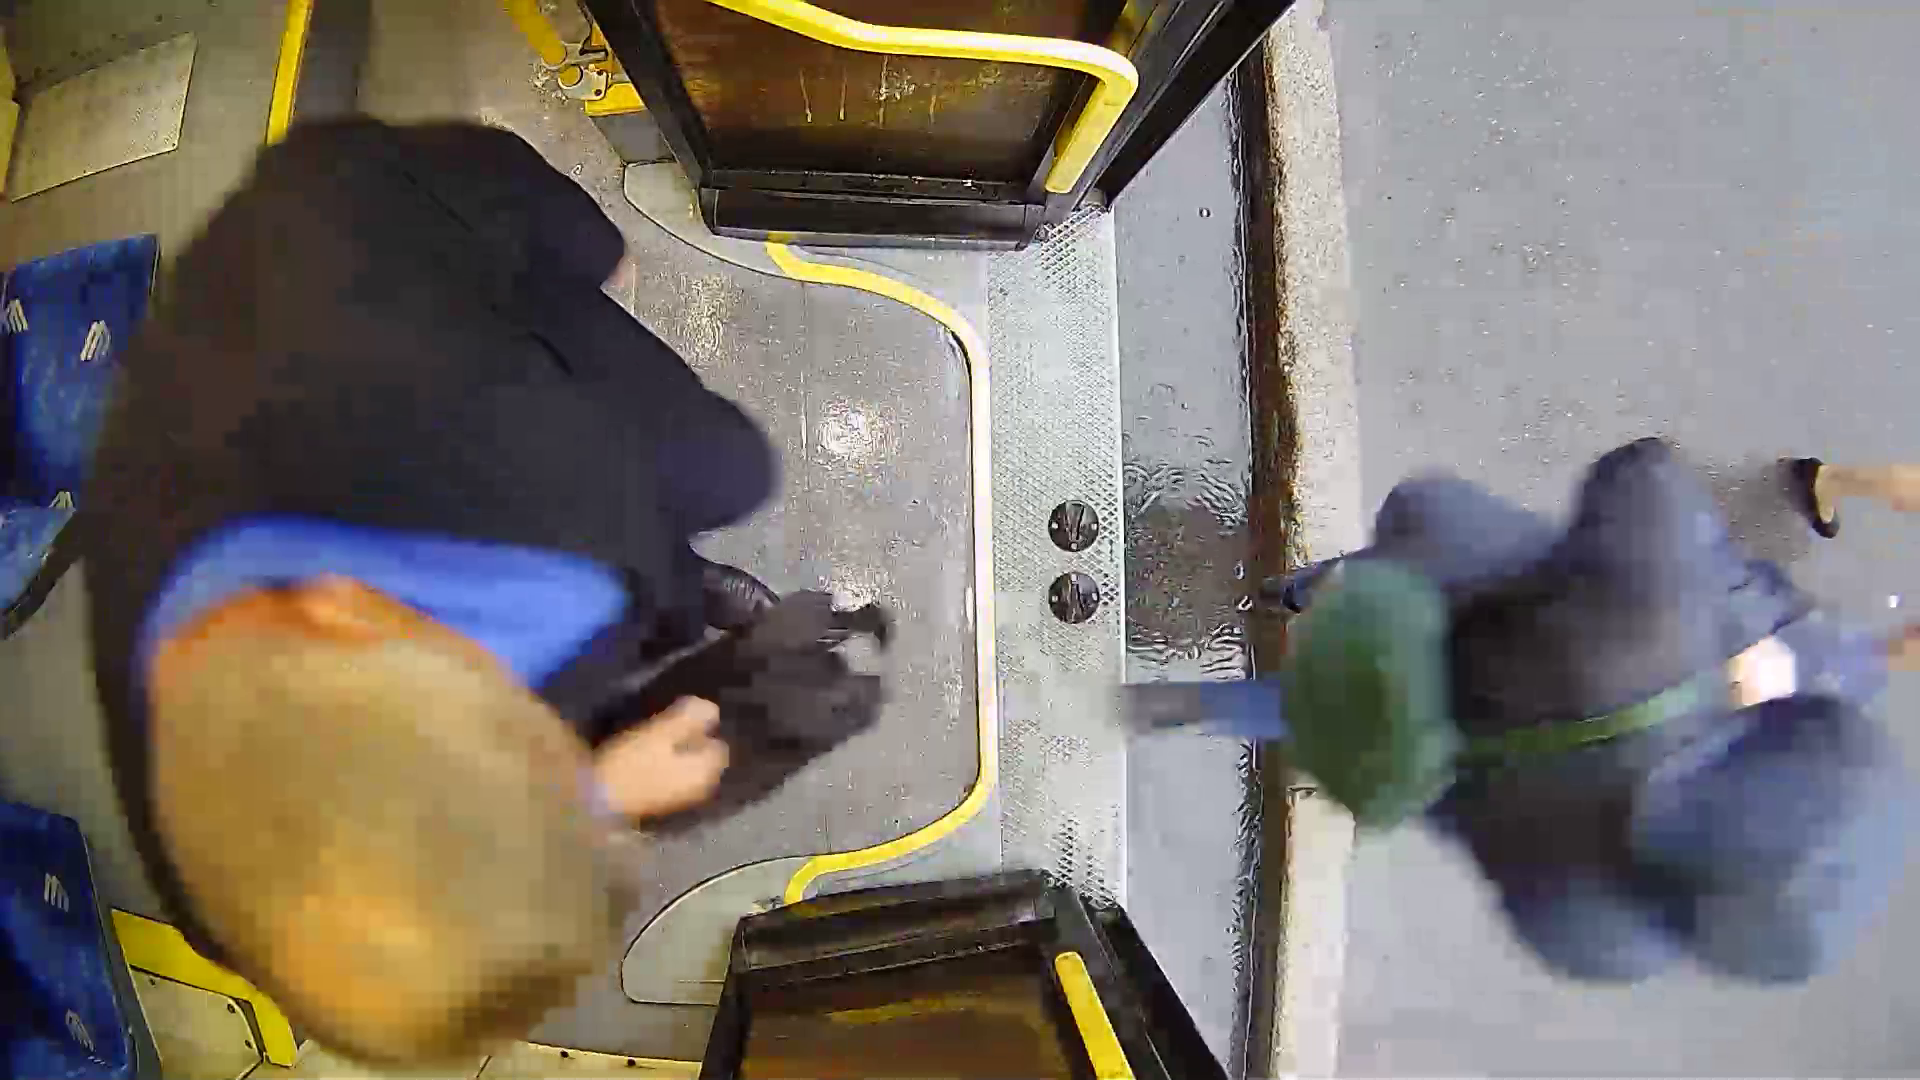person: (60, 161, 945, 985), (1284, 345, 1920, 985)
